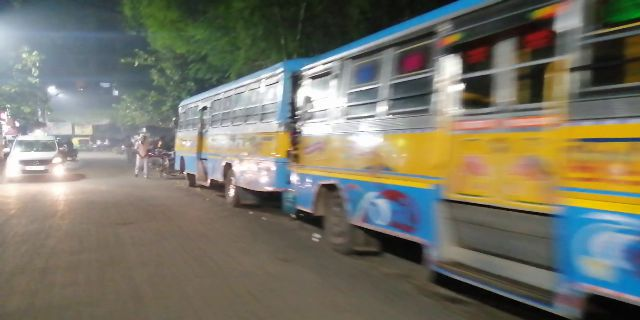Bus: (303, 35, 629, 261), (172, 86, 291, 191)
Car: (9, 135, 64, 182)
